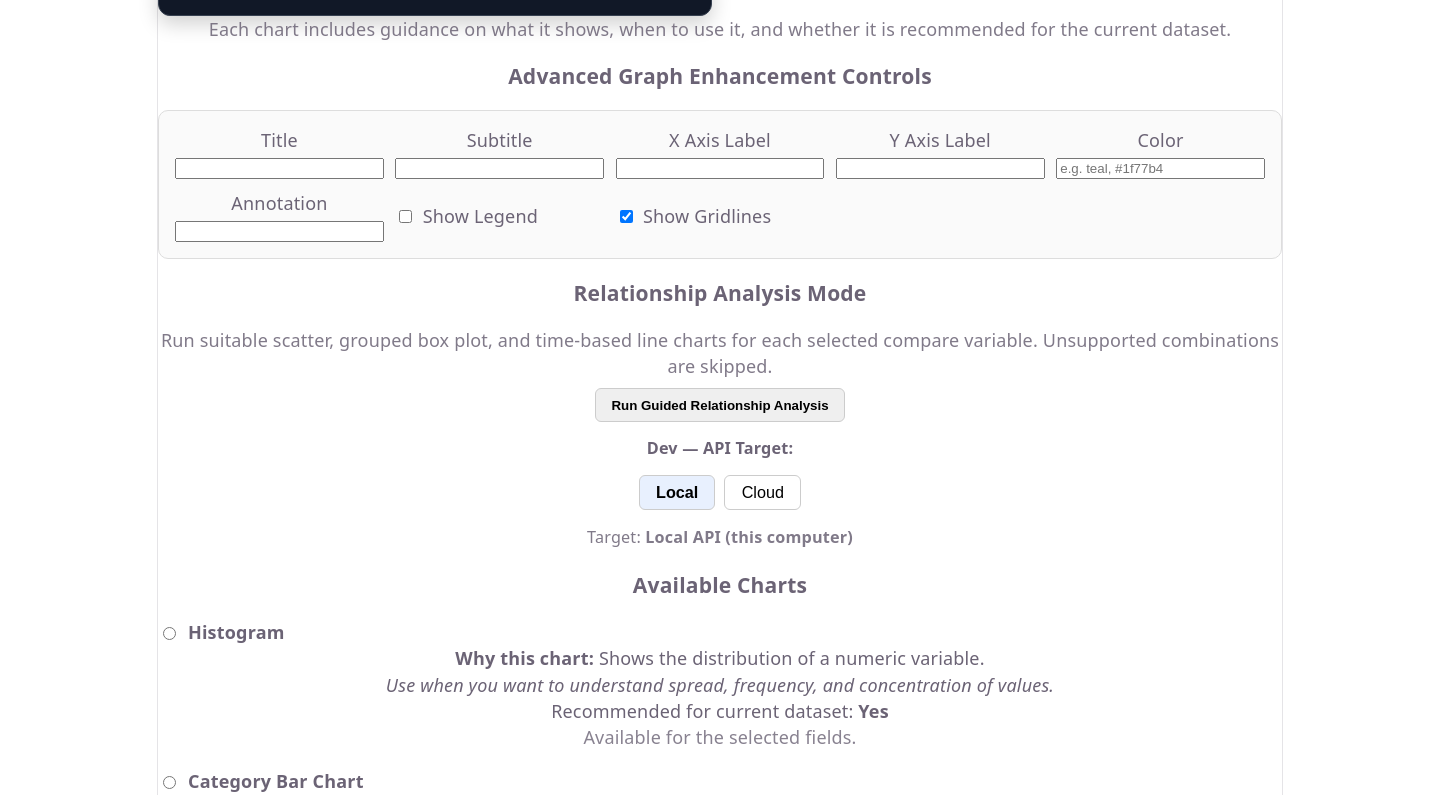
dataset-aware chart selection › retains usable guided results when another combination fails
(page scrolled)
Click the button "Run Guided Relationship Analysis": (720, 405) [595,388,845,422]
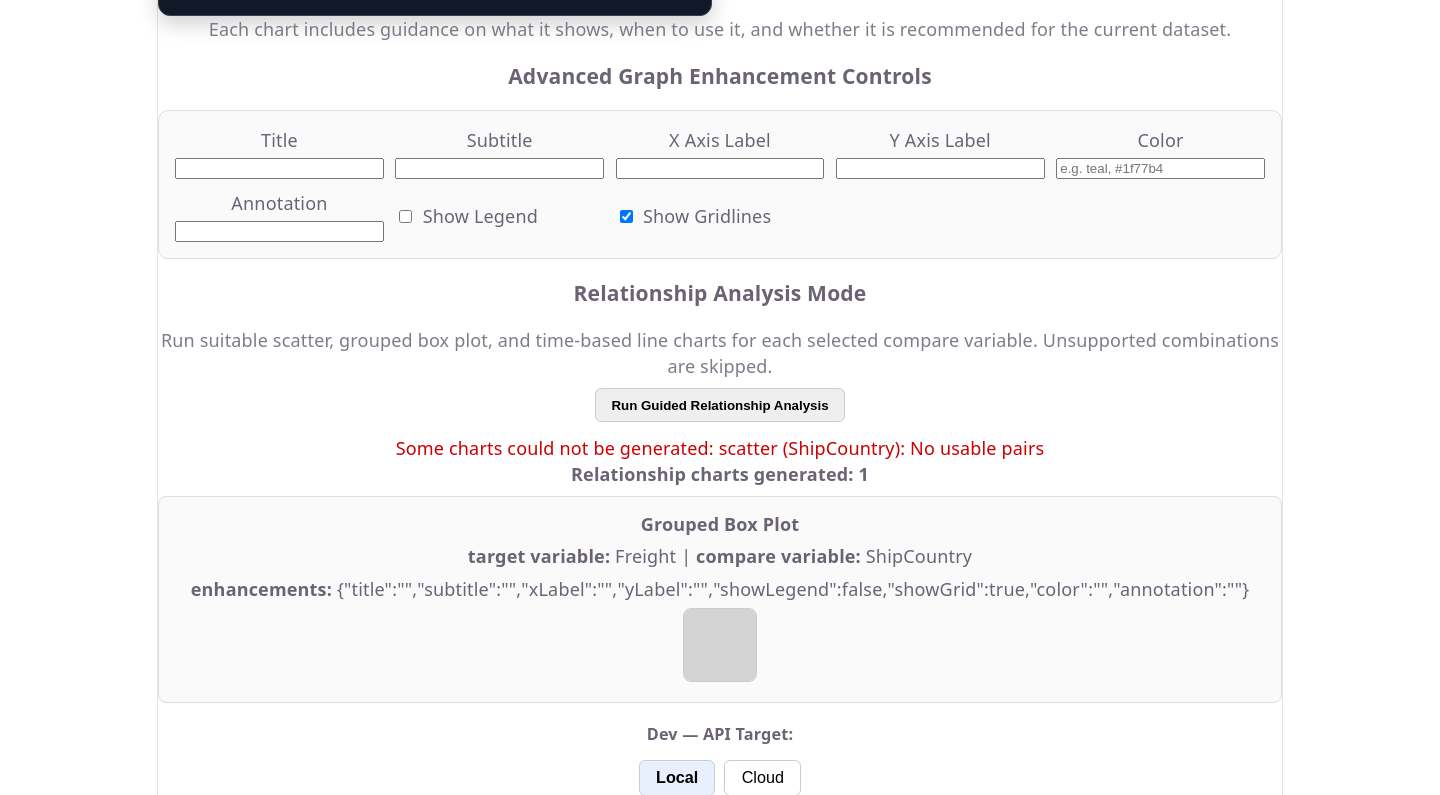
Now the text "Relationship charts generated: 1" is shown, box [571,462,869,486]
Now the text "Some charts could not be generated:" is shown, box [396,436,1044,460]
